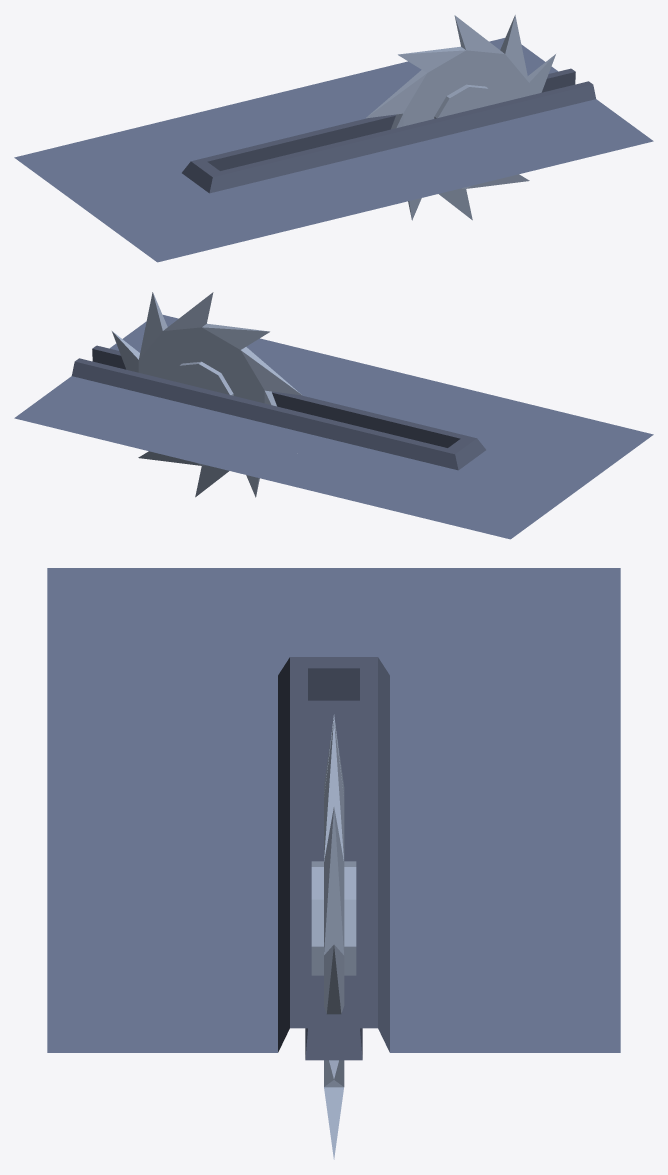
The model's file is trampa.fbx.
3 renders of one model, top to bottom at view 1: azimuth 30°, elevation 25°; view 2: azimuth 150°, elevation 25°; view 3: azimuth 270°, elevation 25°, orthographic. The views are drawn at different scales.
Visible parts, largest first — view 1: saw blade floor corner, saw blade floor, saw blade; view 2: saw blade floor corner, saw blade floor, saw blade; view 3: saw blade floor corner, saw blade floor, saw blade.
Part boxes in pixels (<box>): saw blade floor corner: <box>14,97,405,262</box>; saw blade floor: <box>263,38,653,201</box>; saw blade: <box>366,15,555,220</box>; saw blade floor corner: <box>262,374,653,539</box>; saw blade floor: <box>14,315,404,478</box>; saw blade: <box>112,292,301,497</box>; saw blade floor corner: <box>47,568,620,817</box>; saw blade floor: <box>47,786,620,1060</box>; saw blade: <box>311,714,356,1159</box>.
Size of the model in its own units: 421 by 170 by 211.
